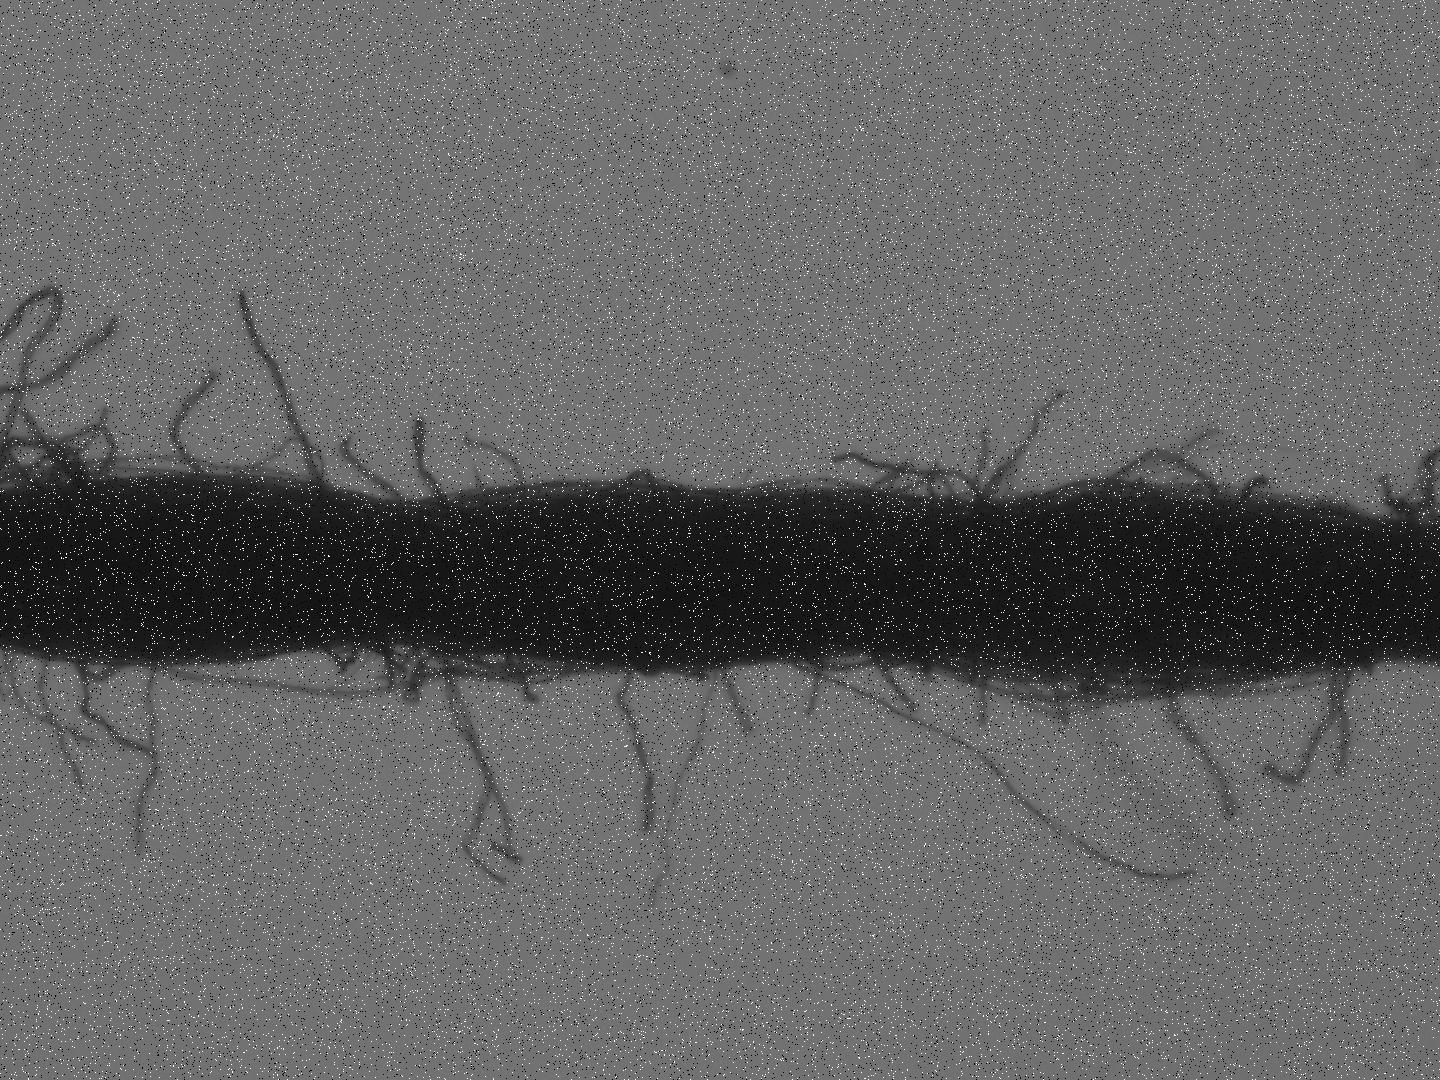loop_fiber: (228, 284, 327, 484), (149, 642, 466, 700), (929, 659, 1192, 718), (6, 419, 120, 487), (1094, 450, 1210, 504), (424, 647, 588, 683), (234, 431, 325, 488), (1025, 478, 1168, 508), (373, 641, 473, 682), (884, 473, 979, 507), (602, 467, 660, 500), (802, 650, 876, 673), (69, 657, 134, 683), (315, 639, 363, 672)
protruding_fiber: (982, 386, 1071, 513), (615, 664, 657, 834)
